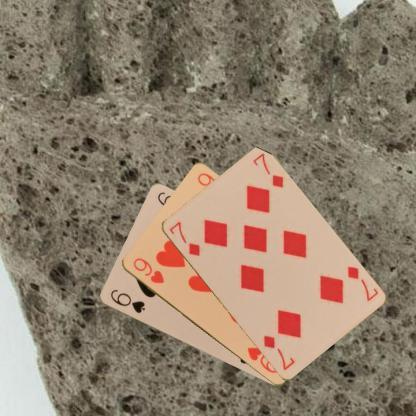6s: (108, 286, 146, 315)
7d: (166, 218, 202, 258), (344, 263, 379, 303)
9h: (130, 256, 165, 284)
